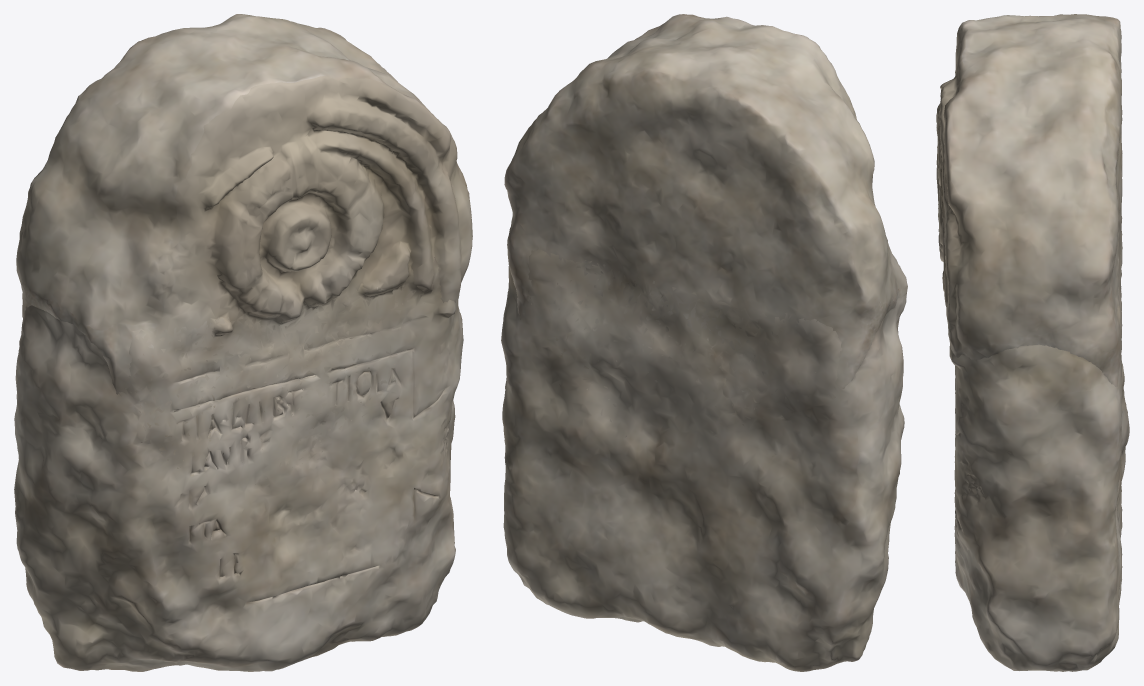
The model's file is 10_INS_attia.glb.
The picture shows the model from 3 angles, left to right: view 1: azimuth 30°, elevation 25°; view 2: azimuth 150°, elevation 25°; view 3: azimuth 270°, elevation 25°; orthographic projection. The views are drawn at different scales.
Visible parts, largest first — view 1: ATTIA_LP; view 2: ATTIA_LP; view 3: ATTIA_LP.
Part boxes in pixels (<box>): ATTIA_LP: <box>14,14,472,671</box>; ATTIA_LP: <box>501,14,907,671</box>; ATTIA_LP: <box>936,14,1129,671</box>.
Size of the model in its own units: 0.3427 by 0.5057 by 0.1554.
1 material, 1 textured.
